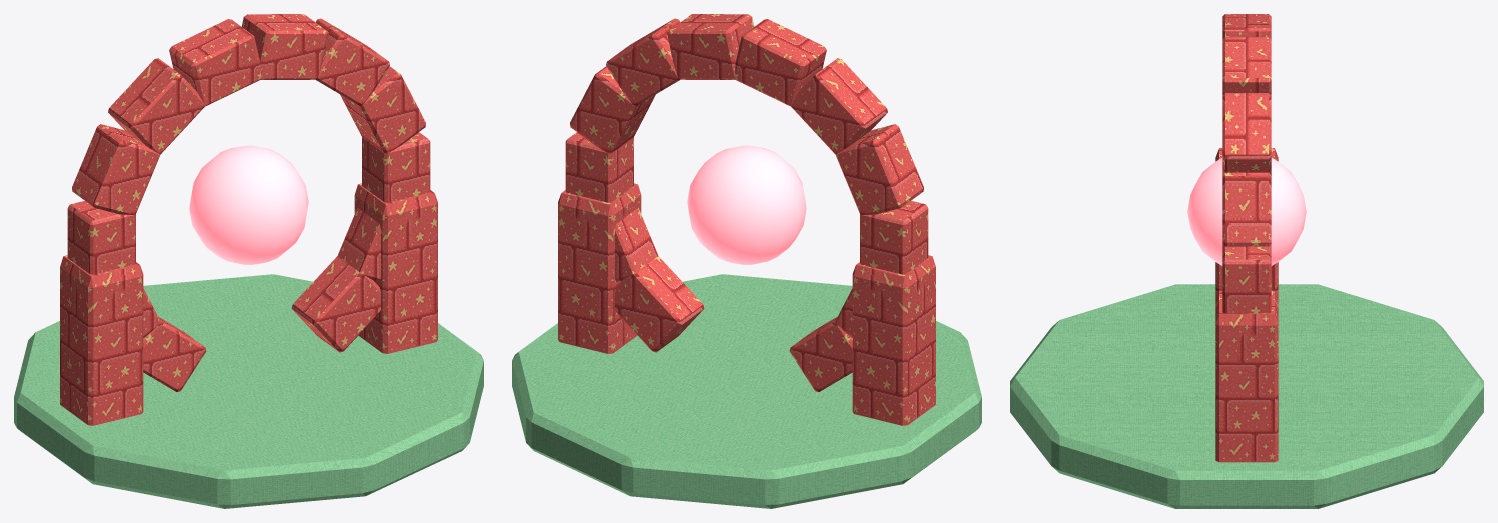
The model's file is boss.glb.
3 views of the same model, side by side, from view 1: azimuth 30°, elevation 25°; view 2: azimuth 150°, elevation 25°; view 3: azimuth 270°, elevation 25° (orthographic).
Parts seen in each view (by area): view 1: Base, Leg-1, Orb, Leg1, Block6, Block5, Block4, Block12, Block3, Block7, Block1, Block0 (+3 smaller); view 2: Base, Leg-1, Orb, Leg1, Block6, Block5, Block4, Block12, Block3, Block7, Block1, Block0 (+3 smaller); view 3: Base, Leg1, Orb, Block2, Block1, Block0, Block3, Block4, Leg-1.
Boxes of the visible parts, <box> form: Base: <box>14,274,483,508</box>; Leg-1: <box>60,255,143,425</box>; Orb: <box>189,145,308,264</box>; Leg1: <box>354,183,437,353</box>; Block6: <box>72,124,159,214</box>; Block5: <box>108,58,204,154</box>; Block4: <box>169,19,261,106</box>; Block12: <box>291,256,380,352</box>; Block3: <box>241,14,328,79</box>; Block7: <box>67,201,135,274</box>; Block1: <box>340,66,425,153</box>; Block0: <box>362,132,430,202</box>; Base: <box>512,274,981,508</box>; Leg-1: <box>852,255,935,425</box>; Orb: <box>687,145,806,264</box>; Leg1: <box>558,183,641,353</box>; Block6: <box>836,124,923,214</box>; Block5: <box>791,58,887,154</box>; Block4: <box>734,19,826,106</box>; Block12: <box>615,256,704,352</box>; Block3: <box>667,14,754,79</box>; Block7: <box>860,201,928,274</box>; Block1: <box>570,66,655,153</box>; Block0: <box>565,132,633,202</box>; Base: <box>1010,284,1483,508</box>; Leg1: <box>1215,290,1278,462</box>; Orb: <box>1187,157,1306,265</box>; Block2: <box>1222,93,1271,175</box>; Block1: <box>1222,172,1271,246</box>; Block0: <box>1222,243,1271,313</box>; Block3: <box>1222,37,1271,95</box>; Block4: <box>1222,14,1271,38</box>; Leg-1: <box>1215,148,1278,299</box>.
Size of the model in its own units: 6.47 by 6.01 by 6.74.
3 materials, 2 textured.
